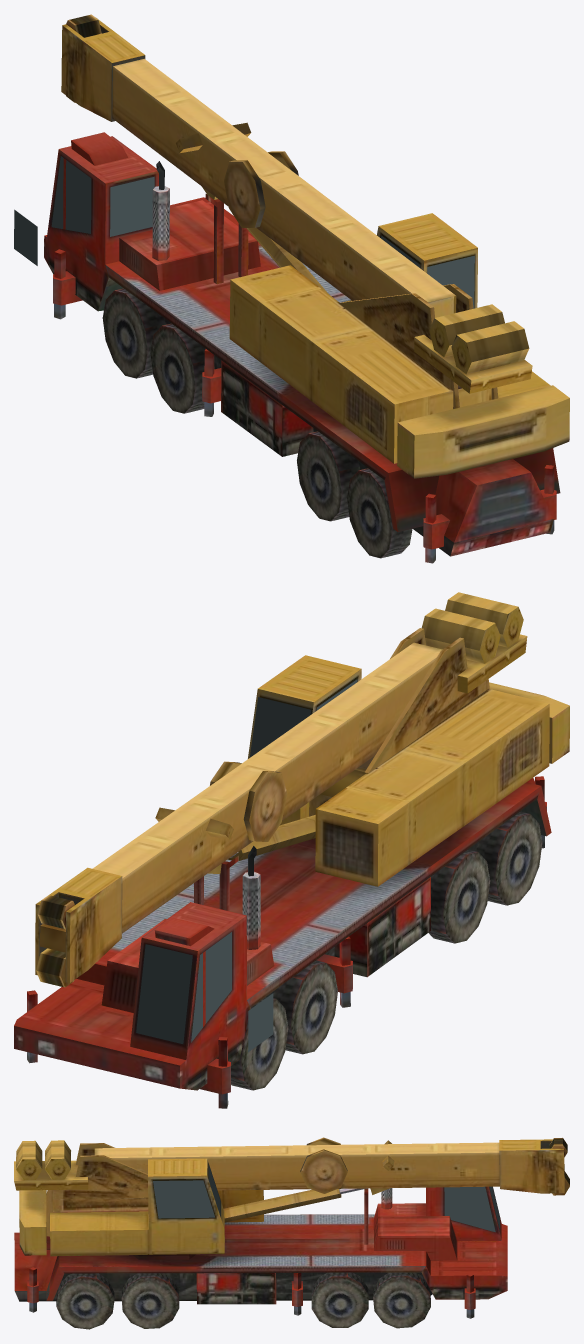
File: p54_35_crane_truck_mobile.glb
3 views of the same model, one above another, from view 1: azimuth 30°, elevation 25°; view 2: azimuth 150°, elevation 25°; view 3: azimuth 270°, elevation 25° (orthographic). The views are drawn at different scales.
Parts seen in each view (by area): view 1: Body, Glass; view 2: Body, Glass; view 3: Body, Glass.
Part boxes in pixels (box(x1,y1,x2,y2)): Body: box(44, 14, 569, 563); Glass: box(14, 156, 474, 308); Body: box(14, 592, 569, 1108); Glass: box(136, 679, 357, 1052); Body: box(14, 1137, 569, 1329); Glass: box(153, 1164, 499, 1232).
Size of the model in its own units: 4.08 by 4.3 by 13.36.
2 materials, 2 textured.
